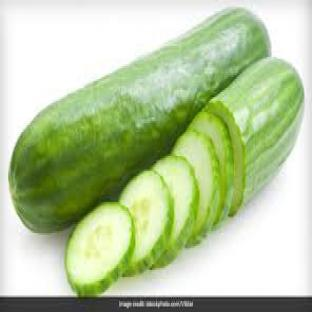Cucumber: (10, 10, 269, 233), (207, 59, 303, 214), (66, 202, 134, 295), (120, 171, 173, 275), (172, 131, 220, 245), (153, 155, 199, 267), (190, 111, 233, 225)
